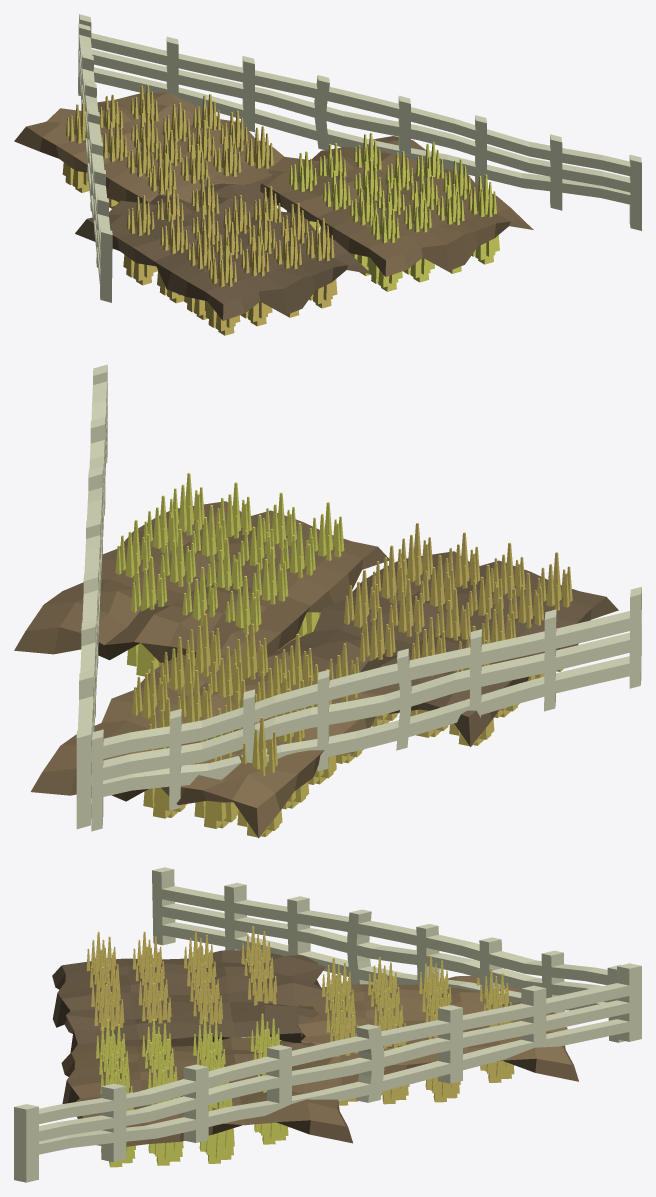
Rendered from wheat_farm.glb.
3 views of the same model, one above another, from view 1: azimuth 30°, elevation 25°; view 2: azimuth 150°, elevation 25°; view 3: azimuth 270°, elevation 25° (orthographic). The views are drawn at different scales.
Visible parts, largest first — view 1: Cube.000; view 2: Cube.000; view 3: Cube.000.
Part boxes in pixels (x1,y1,x2,y2): Cube.000: [14, 14, 641, 335]; Cube.000: [14, 364, 641, 838]; Cube.000: [14, 867, 641, 1182].
Bounding box in the file's own units: 1.25 × 0.2681 × 1.33.
